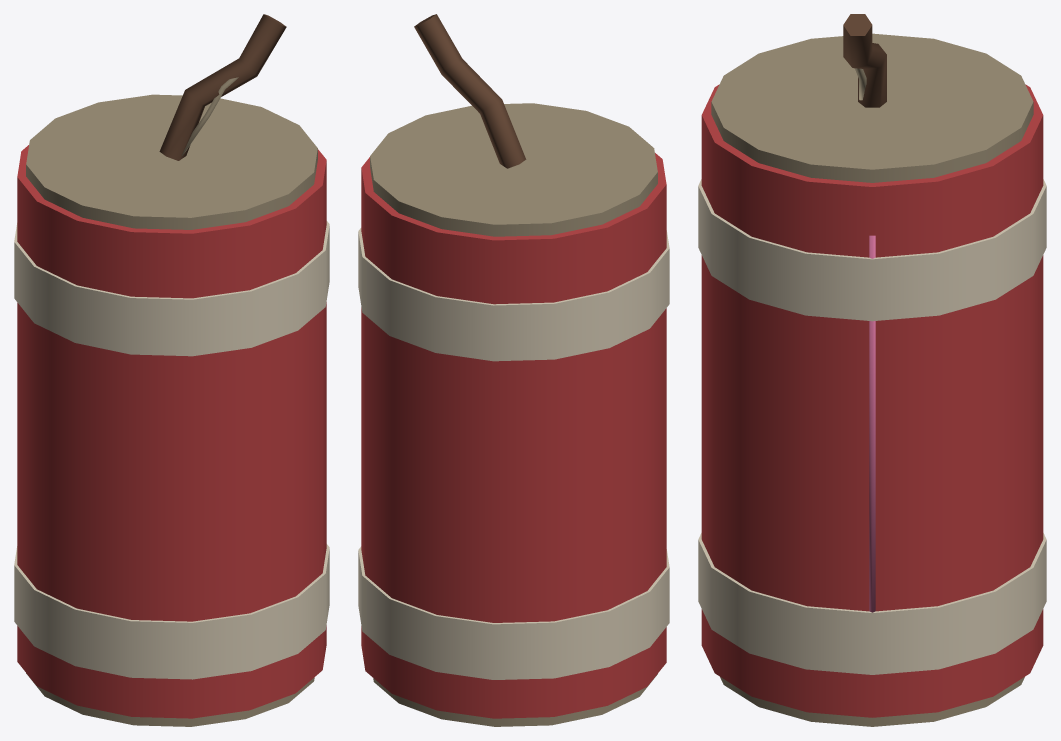
Rendered from firecracker.glb.
The picture shows the model from 3 angles, left to right: view 1: azimuth 30°, elevation 25°; view 2: azimuth 150°, elevation 25°; view 3: azimuth 270°, elevation 25°; orthographic projection. The views are drawn at different scales.
Visible parts, largest first — view 1: Cream label band; view 2: Cream label band; view 3: Cream label band.
Part boxes in pixels (x1,y1,x2,y2): Cream label band: [14, 14, 329, 726]; Cream label band: [358, 14, 669, 726]; Cream label band: [698, 14, 1046, 726].
Size of the model in its own units: 0.0714 by 0.1565 by 0.0714.
